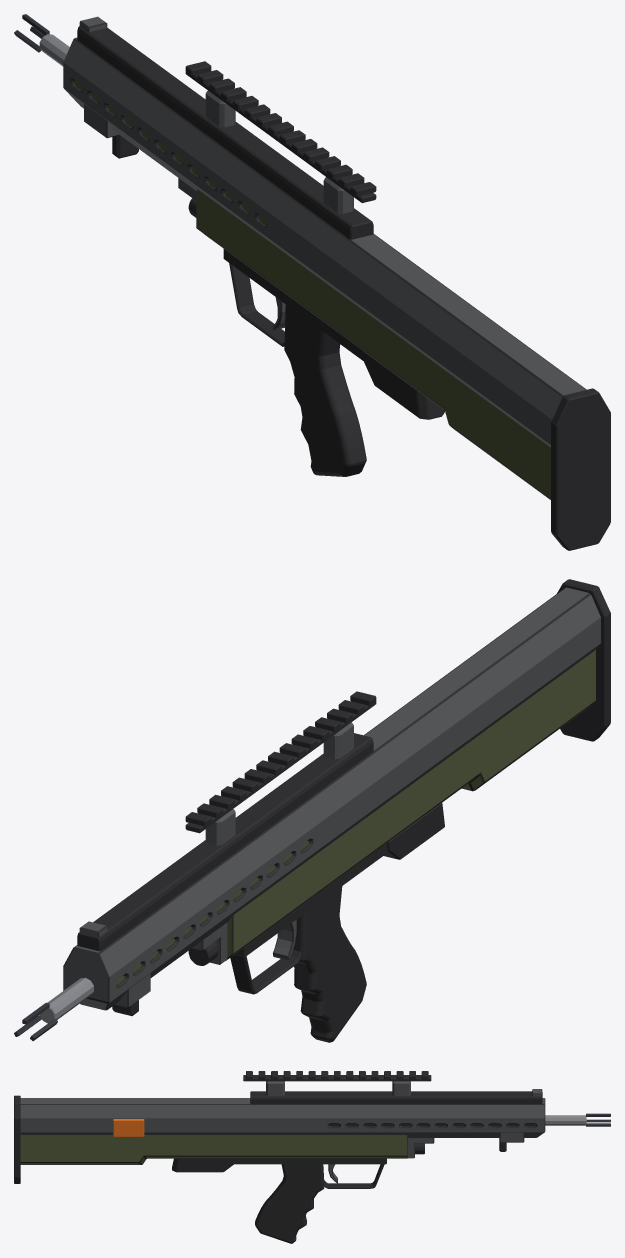
File: bullpup.glb
3 views of the same model, one above another, from view 1: azimuth 30°, elevation 25°; view 2: azimuth 150°, elevation 25°; view 3: azimuth 270°, elevation 25° (orthographic). The views are drawn at different scales.
Parts seen in each view (by area): view 1: bullpup; view 2: bullpup; view 3: bullpup.
Part boxes in pixels (box(x1,y1,x2,y2)): bullpup: box(14, 14, 610, 550); bullpup: box(14, 579, 610, 1042); bullpup: box(14, 1071, 610, 1243).
Bounding box in the file's own units: 0.0439 × 0.2245 × 0.72.
